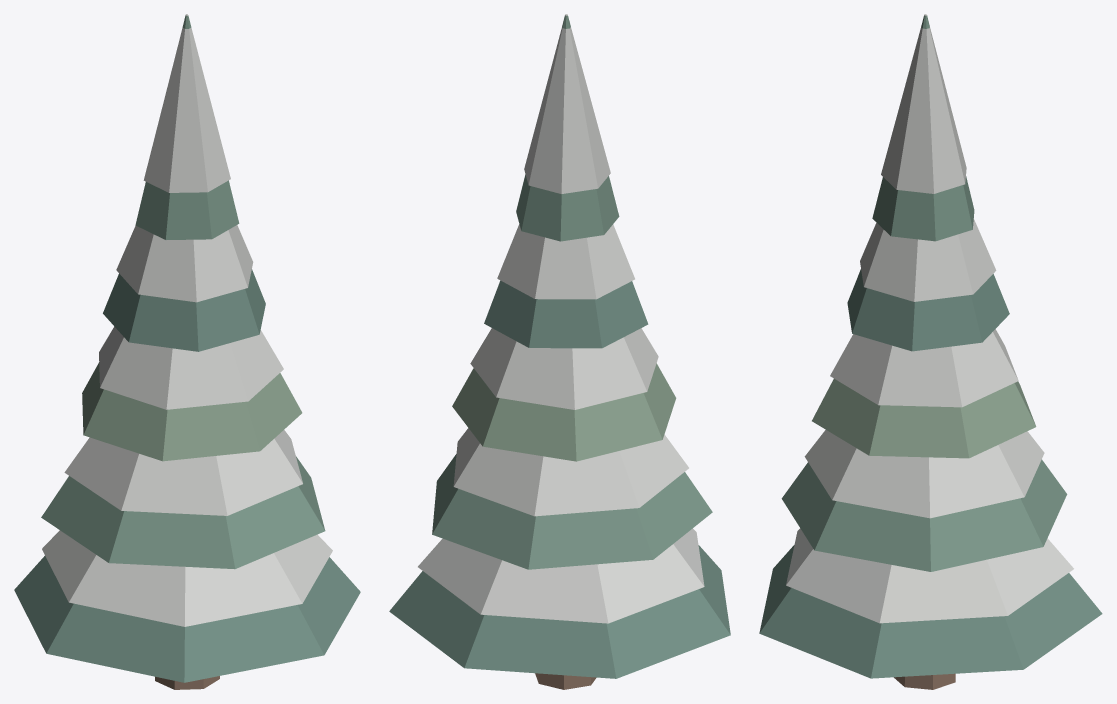
The picture shows the model from 3 angles, left to right: view 1: azimuth 30°, elevation 25°; view 2: azimuth 150°, elevation 25°; view 3: azimuth 270°, elevation 25°; orthographic projection.
Parts seen in each view (by area): view 1: T03; view 2: T03; view 3: T03.
Part boxes in pixels (bbox=[...]): T03: bbox=[14, 14, 360, 689]; T03: bbox=[389, 14, 730, 689]; T03: bbox=[759, 14, 1102, 689].
Size of the model in its own units: 1.24 by 2.62 by 1.23.
